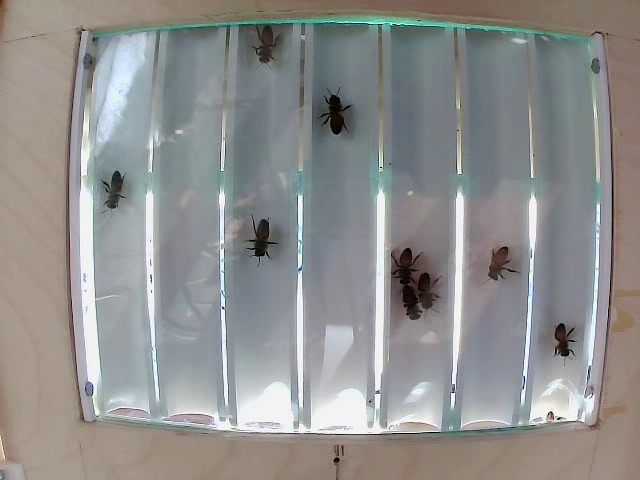bee: (316, 83, 352, 144), (103, 169, 152, 213), (241, 217, 278, 266), (552, 322, 575, 369), (390, 243, 415, 285), (248, 27, 270, 67), (400, 282, 418, 315), (419, 273, 439, 302), (488, 246, 501, 279)
